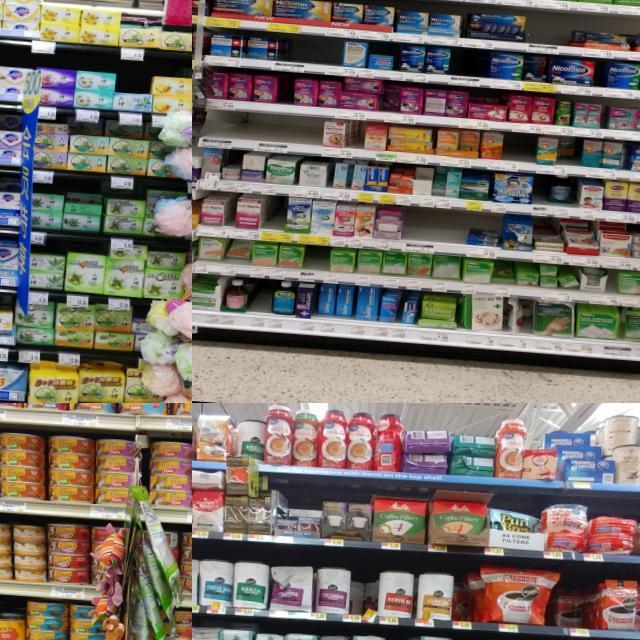Imprecise: (68, 117, 180, 172), (552, 582, 600, 630), (64, 188, 104, 232), (0, 112, 27, 164), (350, 572, 380, 618), (521, 51, 557, 83), (0, 176, 23, 224), (556, 135, 582, 166), (375, 83, 401, 113), (492, 263, 515, 283)
